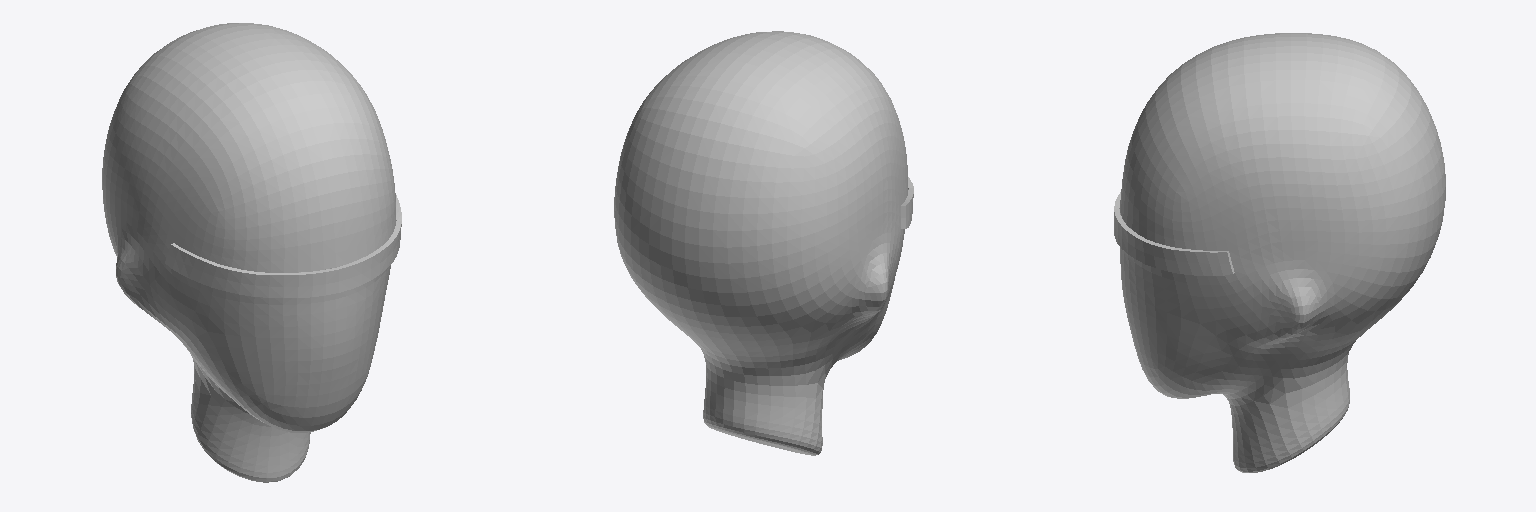
The model's file is humanHead.obj.
3 renders of one model, left to right at view 1: azimuth 30°, elevation 25°; view 2: azimuth 150°, elevation 25°; view 3: azimuth 270°, elevation 25°, orthographic.
Parts seen in each view (by area): view 1: Lowpoly_Model; view 2: Lowpoly_Model; view 3: Lowpoly_Model.
Part boxes in pixels (x1,y1,x2,y2): Lowpoly_Model: (102,23,401,482); Lowpoly_Model: (614,31,913,455); Lowpoly_Model: (1114,33,1445,472).
Bounding box in the file's own units: 1.24 × 1.93 × 1.39.